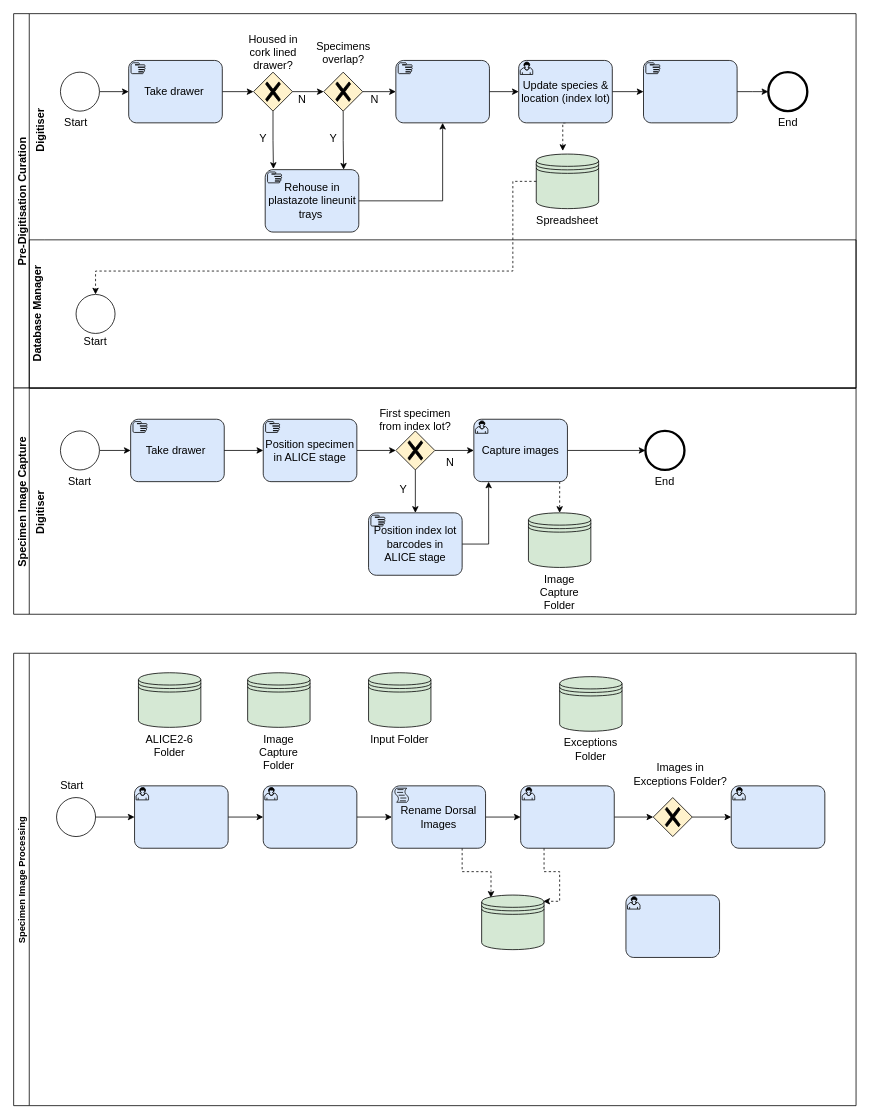
Image size: 870x1119. Some labels were removed from this diagram. Each missing label, with the centre of its shape:
"Attach unique barcode to specimen" goes at [442,91].
"Check Exceptions" goes at [567,816].
"Copy Dorsal Images" goes at [672,925].
"Copy Lateral and Label Images" goes at [181,816].
"Label and return drawer" goes at [690,91].
"Move Dorsal Images" goes at [309,816].
"Rename and Move Images" goes at [777,816].
"Renamed Folder" goes at [512,922].
